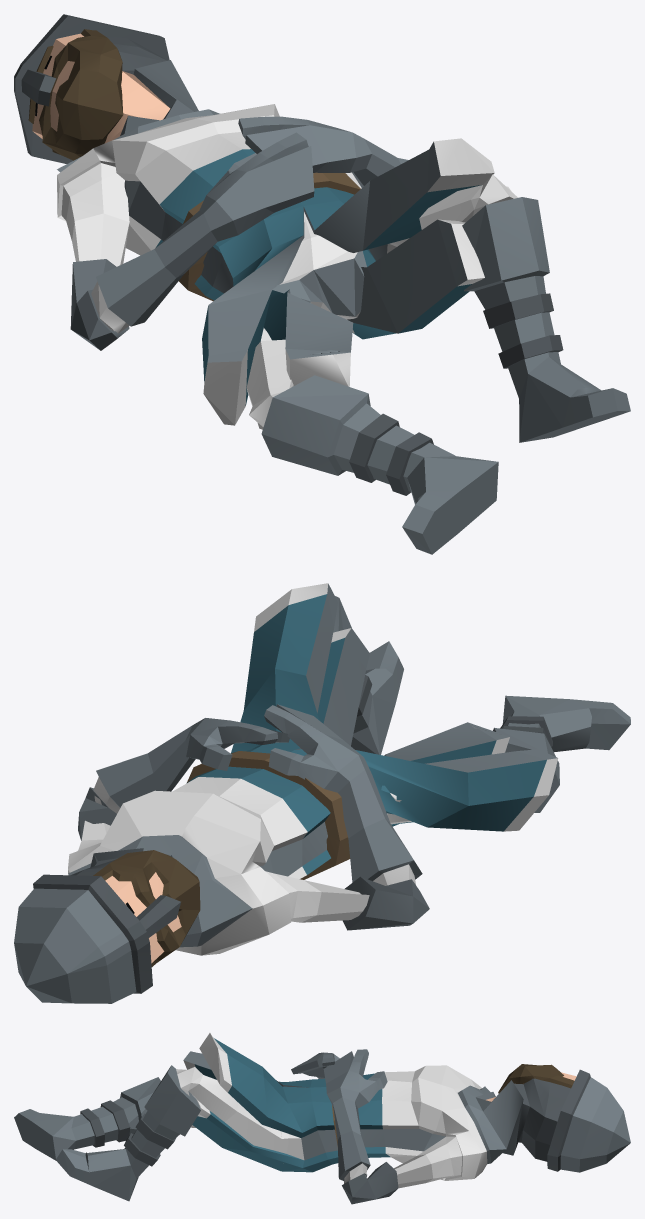
File: SM_Dead_Soldier_06.fbx
3 views of the same model, one above another, from view 1: azimuth 30°, elevation 25°; view 2: azimuth 150°, elevation 25°; view 3: azimuth 270°, elevation 25° (orthographic). The views are drawn at different scales.
Visible parts, largest first — view 1: SM_Dead_Soldier_06; view 2: SM_Dead_Soldier_06; view 3: SM_Dead_Soldier_06.
Part boxes in pixels (x1,y1,x2,y2): SM_Dead_Soldier_06: (14,14,630,554); SM_Dead_Soldier_06: (14,583,630,1003); SM_Dead_Soldier_06: (14,1033,630,1204).
Size of the model in its own units: 80.36 by 50.83 by 184.
